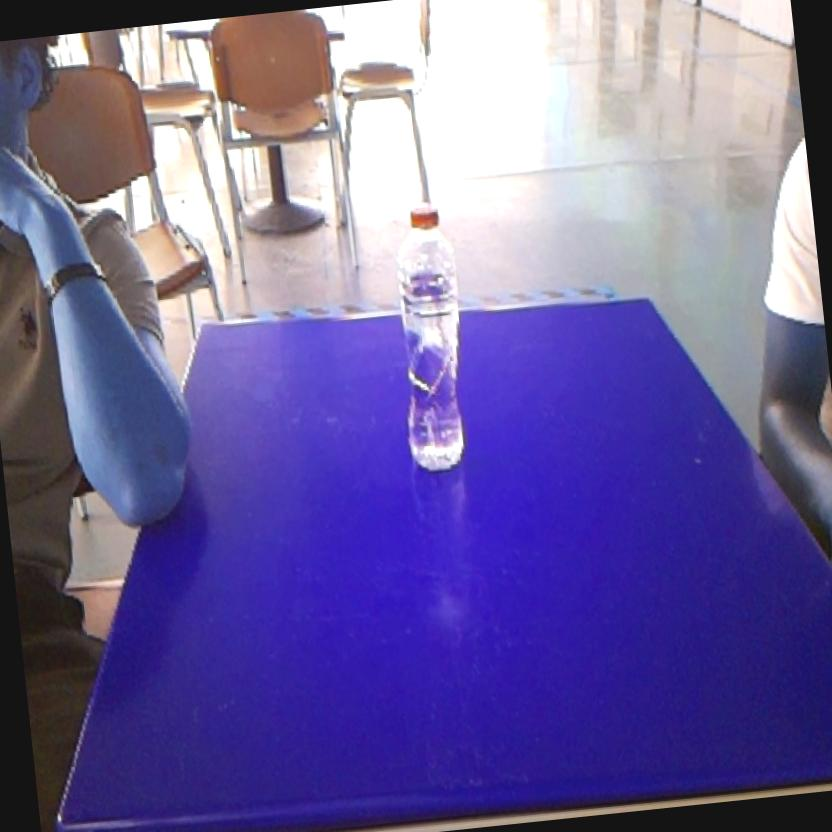no_label: (375, 189, 484, 483)
